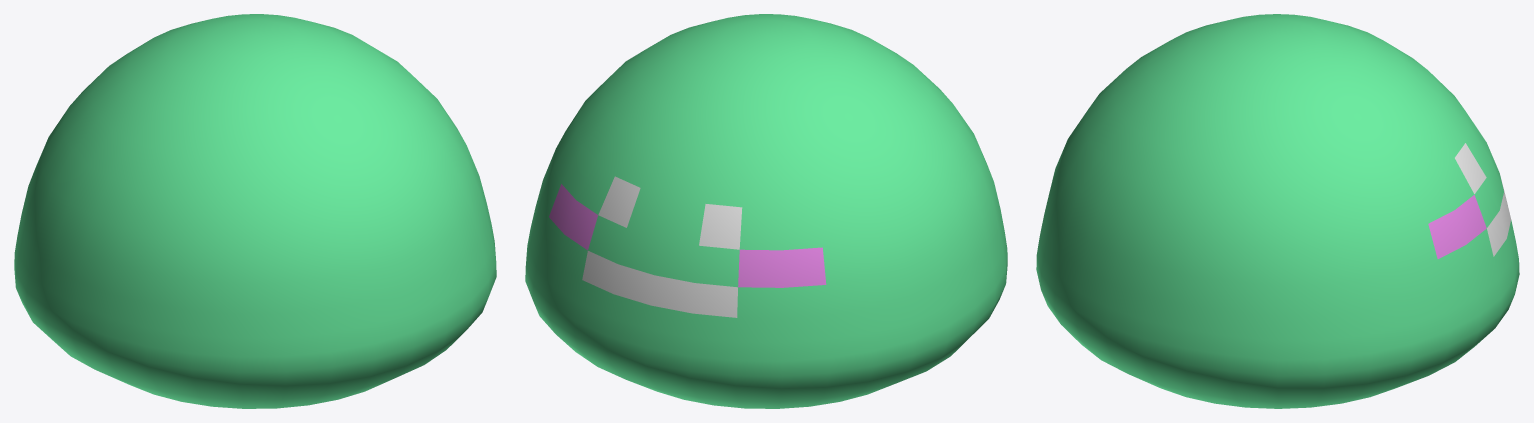
File: slime9.fbx
3 renders of one model, left to right at view 1: azimuth 30°, elevation 25°; view 2: azimuth 150°, elevation 25°; view 3: azimuth 270°, elevation 25°, orthographic.
Visible parts, largest first — view 1: Sphere; view 2: Sphere; view 3: Sphere.
Boxes of the visible parts, left/top/right/bottom form: Sphere: left=14, top=14, right=496, bottom=408; Sphere: left=525, top=14, right=1007, bottom=408; Sphere: left=1036, top=14, right=1519, bottom=408.
Bounding box in the file's own units: 320 × 243 × 319.
